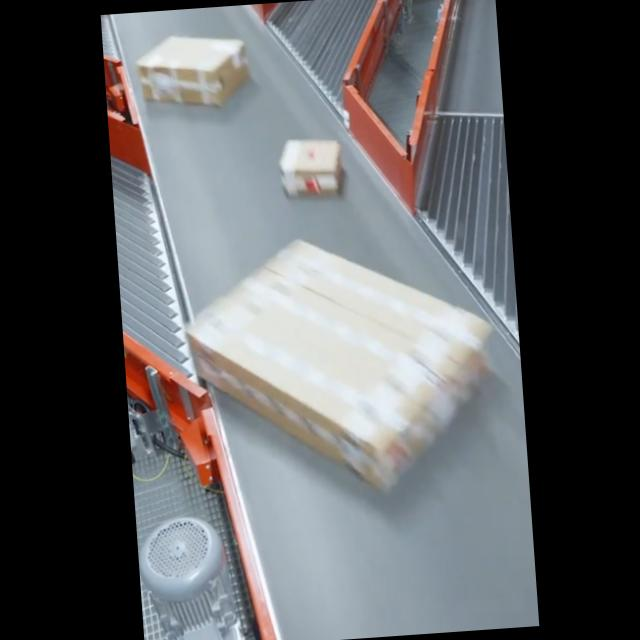box: (182, 226, 498, 497), (138, 28, 248, 108), (278, 138, 343, 198)
